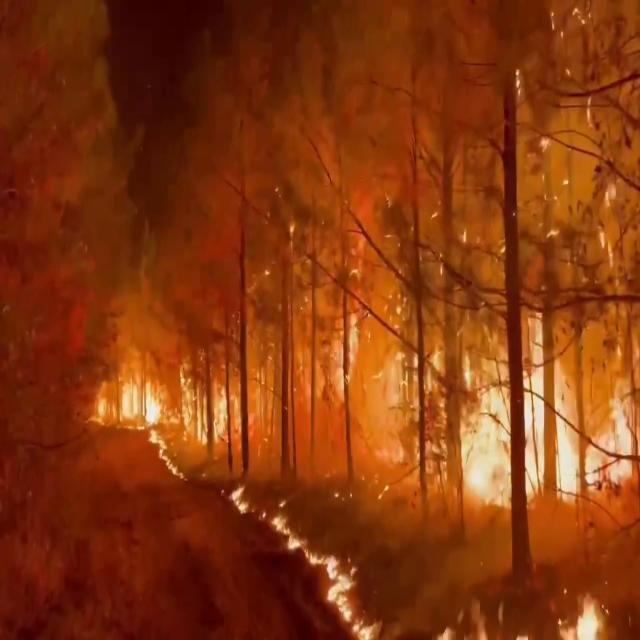Fire: (442, 332, 640, 512), (90, 354, 168, 438), (182, 371, 244, 462), (324, 550, 372, 640), (274, 515, 315, 569)
Smoke: (65, 2, 640, 431)
